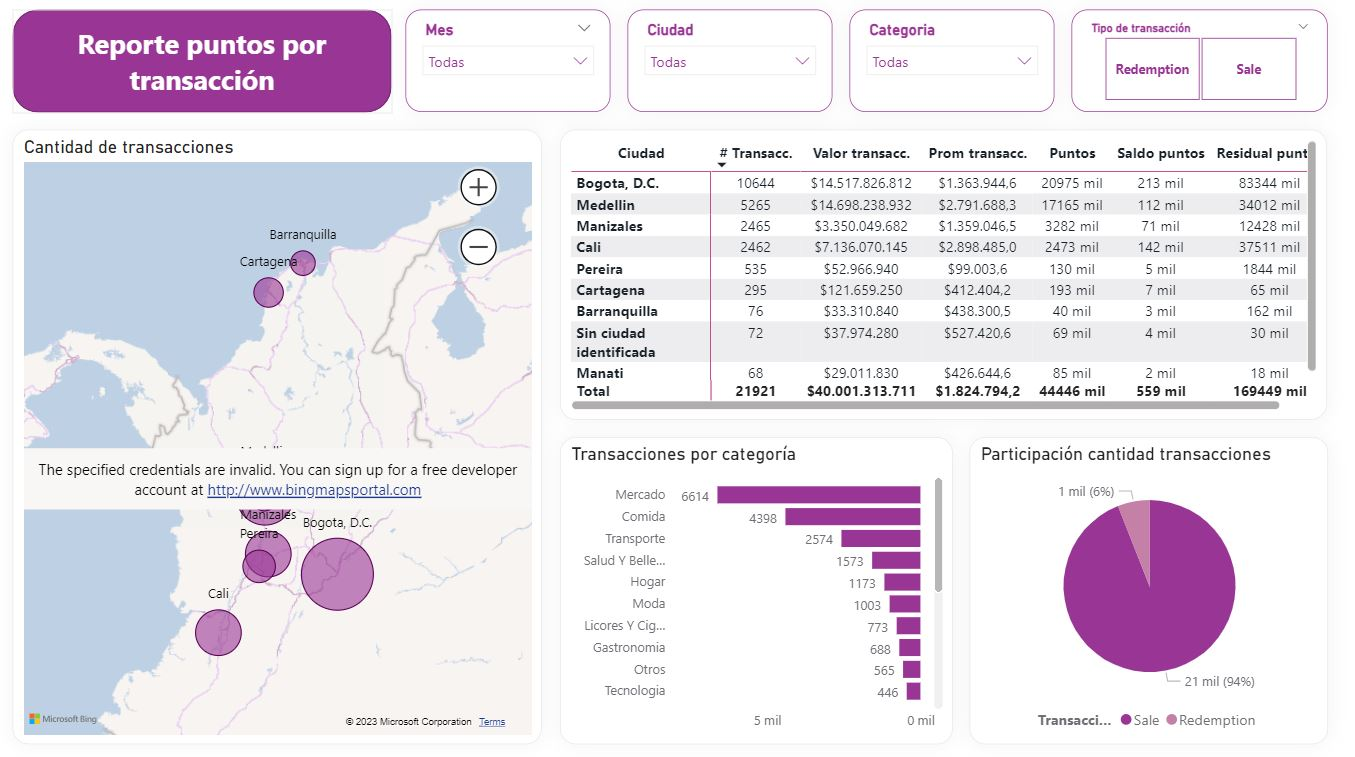

The dashboard page shown, as its layout file describes it:
{"tool":"powerbi","page":{"name":"Página 1","canvas":[1280,720],"ordinal":0},"visuals":[{"type":"map","title":"Cantidad de transacciones ","fields":{"Category":["Customers.ciudad"],"Size":["Medidas.Cantidad transacciones"]},"box":[16,128,496,576],"z":0},{"type":"pivotTable","fields":{"Values":["Medidas.Cantidad transacciones","Sum(Transacciones.valor_transaccion)","Medidas.Unitario de transaccion","Sum(Transacciones.puntos)","Sum(Customers.saldo_puntos)","Sum(Transacciones.Total puntos)"],"Rows":["Customers.ciudad"]},"box":[528.7,127.5,718.4,272.1],"z":1000},{"type":"barChart","title":"Transacciones por categoría","fields":{"Category":["Transacciones.categoria"],"Y":["Medidas.Cantidad transacciones"]},"box":[528,416,368,288],"z":2000},{"type":"pieChart","title":"Participación cantidad transacciones","fields":{"Category":["Transacciones.tipo_transaccion"],"Y":["Medidas.Cantidad transacciones"]},"box":[912,416,336,288],"z":3000},{"type":"slicer","fields":{"Values":["Customers.ciudad"]},"box":[592,16,192,96],"z":4000},{"type":"slicer","fields":{"Values":["Transacciones.categoria"]},"box":[800,16,192,96],"z":5000},{"type":"slicer","fields":{"Values":["Transacciones.tipo_transaccion"]},"box":[1008,16,240,96],"z":6000},{"type":"slicer","fields":{"Values":["Customers.Nombre del mes"]},"box":[384,16,192,96],"z":8000},{"type":"shape","box":[15.6,15.6,355.1,96.6],"z":8001}]}

Visuals, with their boxes in screenshot pixels (x1, y1, x2, y2), scaled from the page's 1280x720 canvas onto the 1355x757 screenshot:
"Cantidad de transacciones " map: (x1=17, y1=135, x2=542, y2=740)
pivotTable - Medidas.Cantidad transacciones x Sum(Transacciones.valor_transaccion): (x1=560, y1=134, x2=1320, y2=420)
"Transacciones por categoría" barChart: (x1=559, y1=437, x2=948, y2=740)
"Participación cantidad transacciones" pieChart: (x1=965, y1=437, x2=1321, y2=740)
slicer - Customers.ciudad: (x1=627, y1=17, x2=830, y2=118)
slicer - Transacciones.categoria: (x1=847, y1=17, x2=1050, y2=118)
slicer - Transacciones.tipo_transaccion: (x1=1067, y1=17, x2=1321, y2=118)
slicer - Customers.Nombre del mes: (x1=406, y1=17, x2=610, y2=118)
shape: (x1=17, y1=16, x2=392, y2=118)
